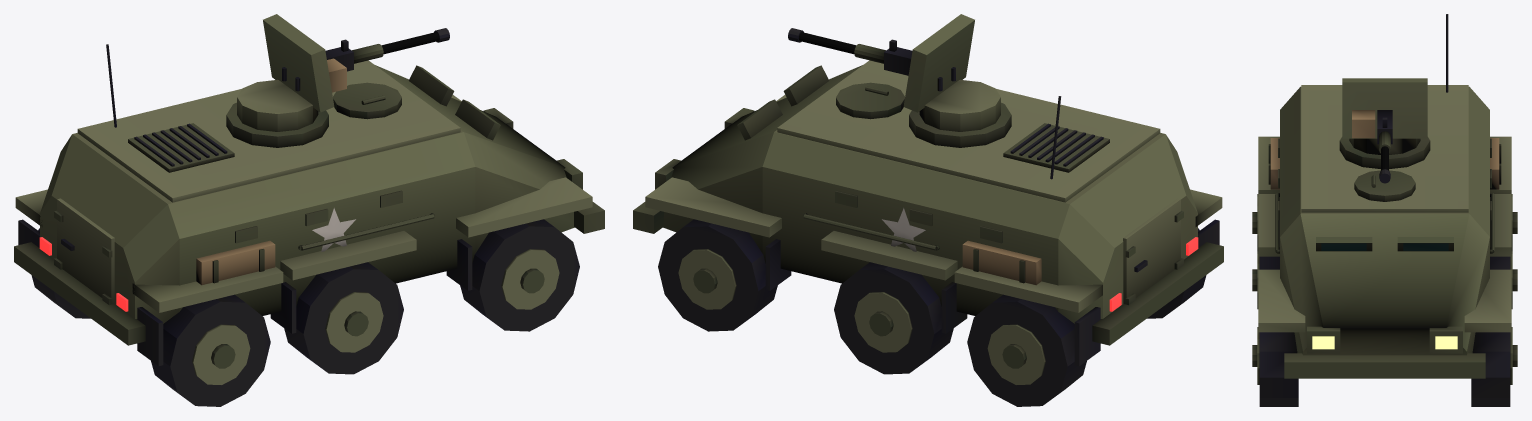
Rendered from veh.military-apc.lod1.glb.
3 views of the same model, side by side, from view 1: azimuth 30°, elevation 25°; view 2: azimuth 150°, elevation 25°; view 3: azimuth 270°, elevation 25° (orthographic). The views are drawn at different scales.
Visible parts, largest first — view 1: body, wheelRL, wheelFL, wheelML, turret, gun, wheelRR; view 2: body, wheelRR, wheelFR, wheelMR, turret, gun, wheelRL; view 3: body, turret, wheelFL, wheelFR, gun, lightsFront, wheelML, wheelMR.
Part boxes in pixels (x1,y1,x2,y2): body: [14, 44, 604, 366]; wheelRL: [151, 294, 270, 406]; wheelFL: [460, 219, 579, 331]; wheelML: [284, 262, 403, 374]; turret: [226, 14, 334, 147]; gun: [282, 28, 449, 92]; wheelRR: [31, 228, 90, 318]; body: [633, 60, 1223, 366]; wheelRR: [967, 294, 1086, 406]; wheelFR: [658, 219, 777, 331]; wheelMR: [834, 262, 953, 374]; turret: [903, 14, 1011, 147]; gun: [788, 28, 955, 91]; wheelRL: [1147, 228, 1206, 318]; body: [1258, 14, 1511, 378]; turret: [1339, 78, 1430, 168]; wheelFL: [1252, 327, 1298, 406]; wheelFR: [1471, 327, 1517, 406]; gun: [1352, 110, 1392, 183]; lightsFront: [1312, 336, 1457, 349]; wheelML: [1252, 251, 1279, 309]; wheelMR: [1490, 251, 1517, 309].
Bounding box in the file's own units: 5.69 × 3.26 × 3.11.
